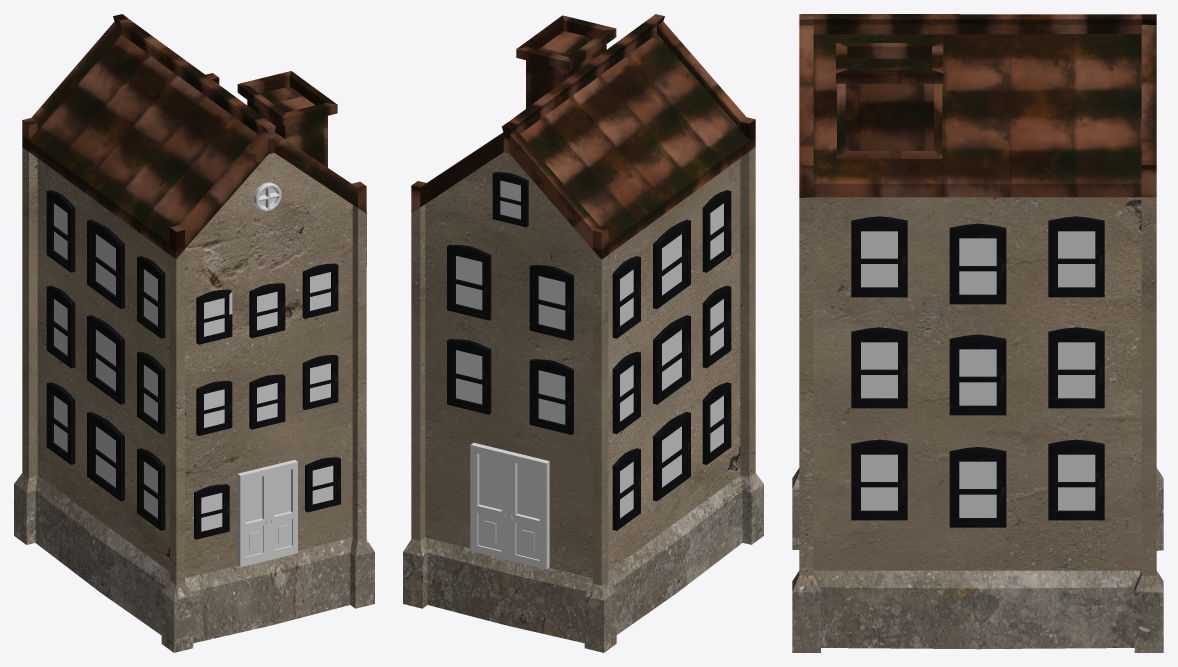
Rendered from House1Textured.fbx.
The picture shows the model from 3 angles, left to right: view 1: azimuth 30°, elevation 25°; view 2: azimuth 150°, elevation 25°; view 3: azimuth 270°, elevation 25°; orthographic projection. The views are drawn at different scales.
Visible parts, largest first — view 1: BaseHouse1, Roof.002, DoorNew, WindowLBroadSide.011, WindowLBroadSide.014, WindowLBroadSide.008, WindowLBroadSide.009, WindowLBroadSide.006, WindowLBroadSide.012, WindowLBroadSide.010, WindowLBroadSide.007, WindowLBroadSide.013 (+9 smaller); view 2: BaseHouse1, Roof.002, DoorNew.001, WindowNewResized.012, WindowNewResized.011, WindowNewResized.009, WindowNewResized.010, WindowLBroadSide.011, WindowLBroadSide.014, WindowLBroadSide.008, WindowLBroadSide.010, WindowLBroadSide.007 (+5 smaller); view 3: BaseHouse1, Roof.002, WindowRBroadSide.013, WindowRBroadSide.010, WindowRBroadSide.016, WindowRBroadSide.012, WindowRBroadSide.014, WindowRBroadSide.009, WindowRBroadSide.011, WindowRBroadSide.015, WindowRBroadSide.017.
Part boxes in pixels (bbox=[...]): BaseHouse1: bbox=[14, 147, 374, 652]; Roof.002: bbox=[22, 14, 366, 259]; DoorNew: bbox=[237, 460, 297, 567]; WindowLBroadSide.011: bbox=[87, 219, 124, 308]; WindowLBroadSide.014: bbox=[87, 315, 124, 404]; WindowLBroadSide.008: bbox=[87, 412, 124, 501]; WindowLBroadSide.009: bbox=[46, 190, 75, 272]; WindowLBroadSide.006: bbox=[46, 382, 75, 464]; WindowLBroadSide.012: bbox=[46, 285, 75, 368]; WindowLBroadSide.010: bbox=[137, 256, 165, 338]; WindowLBroadSide.007: bbox=[137, 448, 165, 530]; WindowLBroadSide.013: bbox=[137, 351, 165, 434]; BaseHouse1: bbox=[403, 147, 763, 652]; Roof.002: bbox=[411, 14, 755, 259]; DoorNew.001: bbox=[470, 442, 549, 569]; WindowNewResized.012: bbox=[529, 359, 573, 434]; WindowNewResized.011: bbox=[447, 339, 491, 414]; WindowNewResized.009: bbox=[447, 244, 491, 320]; WindowNewResized.010: bbox=[529, 265, 573, 340]; WindowLBroadSide.011: bbox=[653, 219, 690, 308]; WindowLBroadSide.014: bbox=[653, 315, 690, 404]; WindowLBroadSide.008: bbox=[653, 412, 690, 501]; WindowLBroadSide.010: bbox=[702, 190, 731, 272]; WindowLBroadSide.007: bbox=[702, 382, 731, 464]; BaseHouse1: bbox=[792, 197, 1163, 652]; Roof.002: bbox=[799, 14, 1156, 197]; WindowRBroadSide.013: bbox=[949, 334, 1006, 415]; WindowRBroadSide.010: bbox=[949, 223, 1006, 304]; WindowRBroadSide.016: bbox=[949, 447, 1006, 527]; WindowRBroadSide.012: bbox=[851, 327, 907, 408]; WindowRBroadSide.014: bbox=[1048, 327, 1104, 408]; WindowRBroadSide.009: bbox=[851, 216, 907, 297]; WindowRBroadSide.011: bbox=[1048, 216, 1104, 297]; WindowRBroadSide.015: bbox=[851, 439, 907, 520]; WindowRBroadSide.017: bbox=[1048, 439, 1104, 520].
Bounding box in the file's own units: 1584 × 3756 × 2183.
